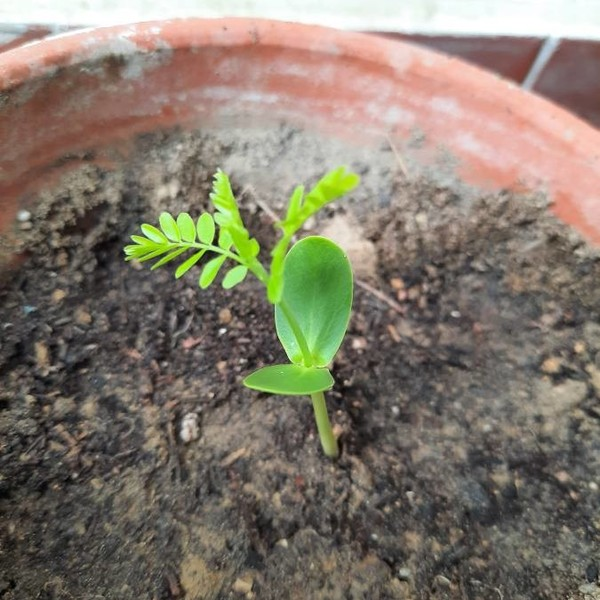obstacle: (10, 18, 578, 482)
